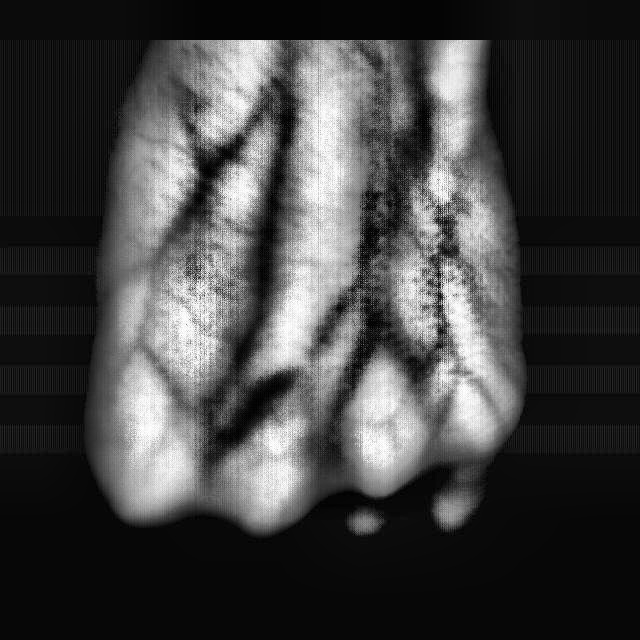Vein: (247, 137, 291, 330)
